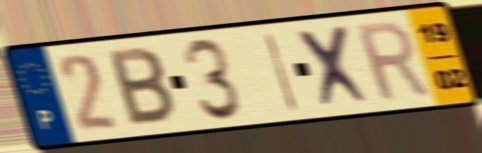2: (59, 51, 121, 135)
3: (182, 36, 244, 123)
B: (105, 45, 178, 129)
I: (262, 30, 302, 115)
R: (351, 18, 435, 105)
X: (293, 22, 378, 112)
